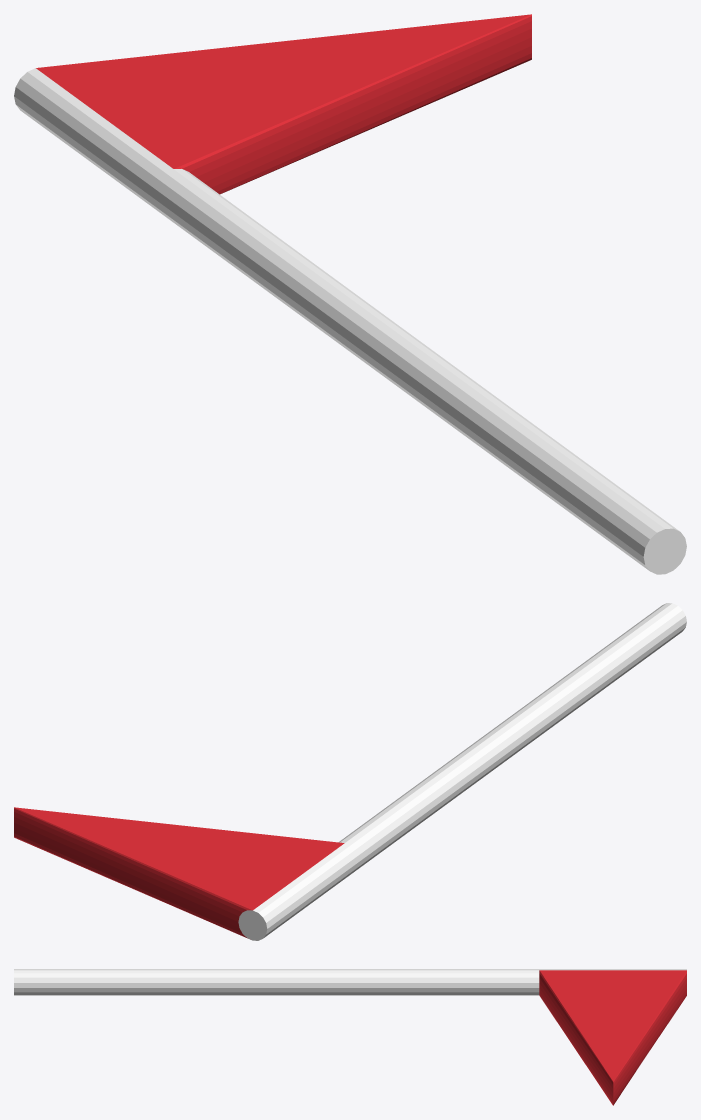
The model's file is Goal Flag.fbx.
3 renders of one model, top to bottom at view 1: azimuth 30°, elevation 25°; view 2: azimuth 150°, elevation 25°; view 3: azimuth 270°, elevation 25°, orthographic. The views are drawn at different scales.
Visible parts, largest first — view 1: Goal Flag; view 2: Goal Flag; view 3: Goal Flag.
Part boxes in pixels (left/top/right/bottom): Goal Flag: left=14, top=14, right=686, bottom=574; Goal Flag: left=14, top=603, right=686, bottom=940; Goal Flag: left=14, top=969, right=686, bottom=1105.
Bounding box in the file's own units: 16850 × 1627 × 40925.
